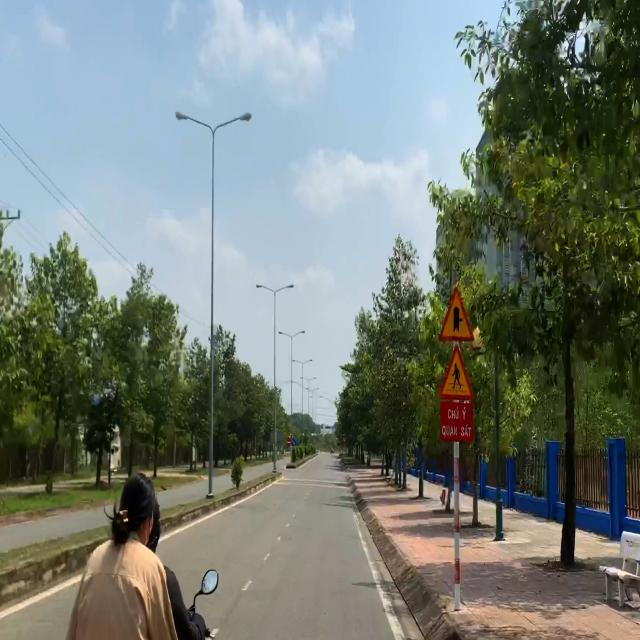Giao voi duong khong uu tien: (439, 287, 474, 342)
Nguoi di bo cat ngang: (438, 344, 474, 402)
